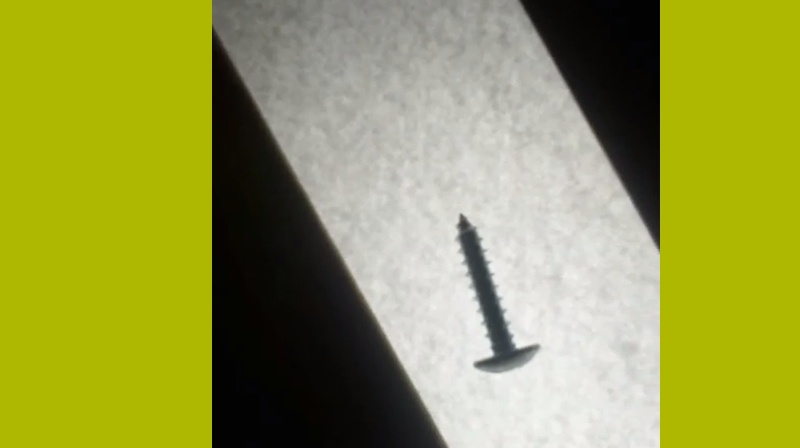S003: (451, 207, 542, 377)
